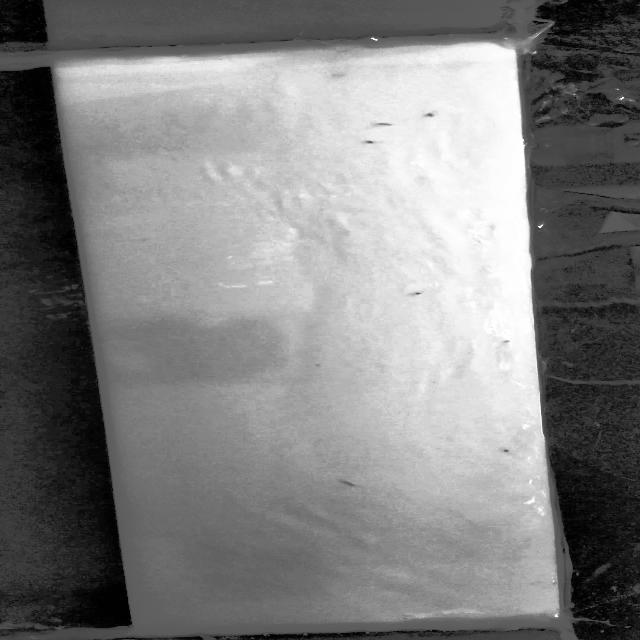shrimp: (332, 474, 368, 494), (414, 106, 445, 123), (400, 286, 432, 300), (327, 69, 358, 82), (366, 116, 398, 128), (492, 445, 520, 456), (354, 140, 384, 150), (491, 335, 513, 347)
